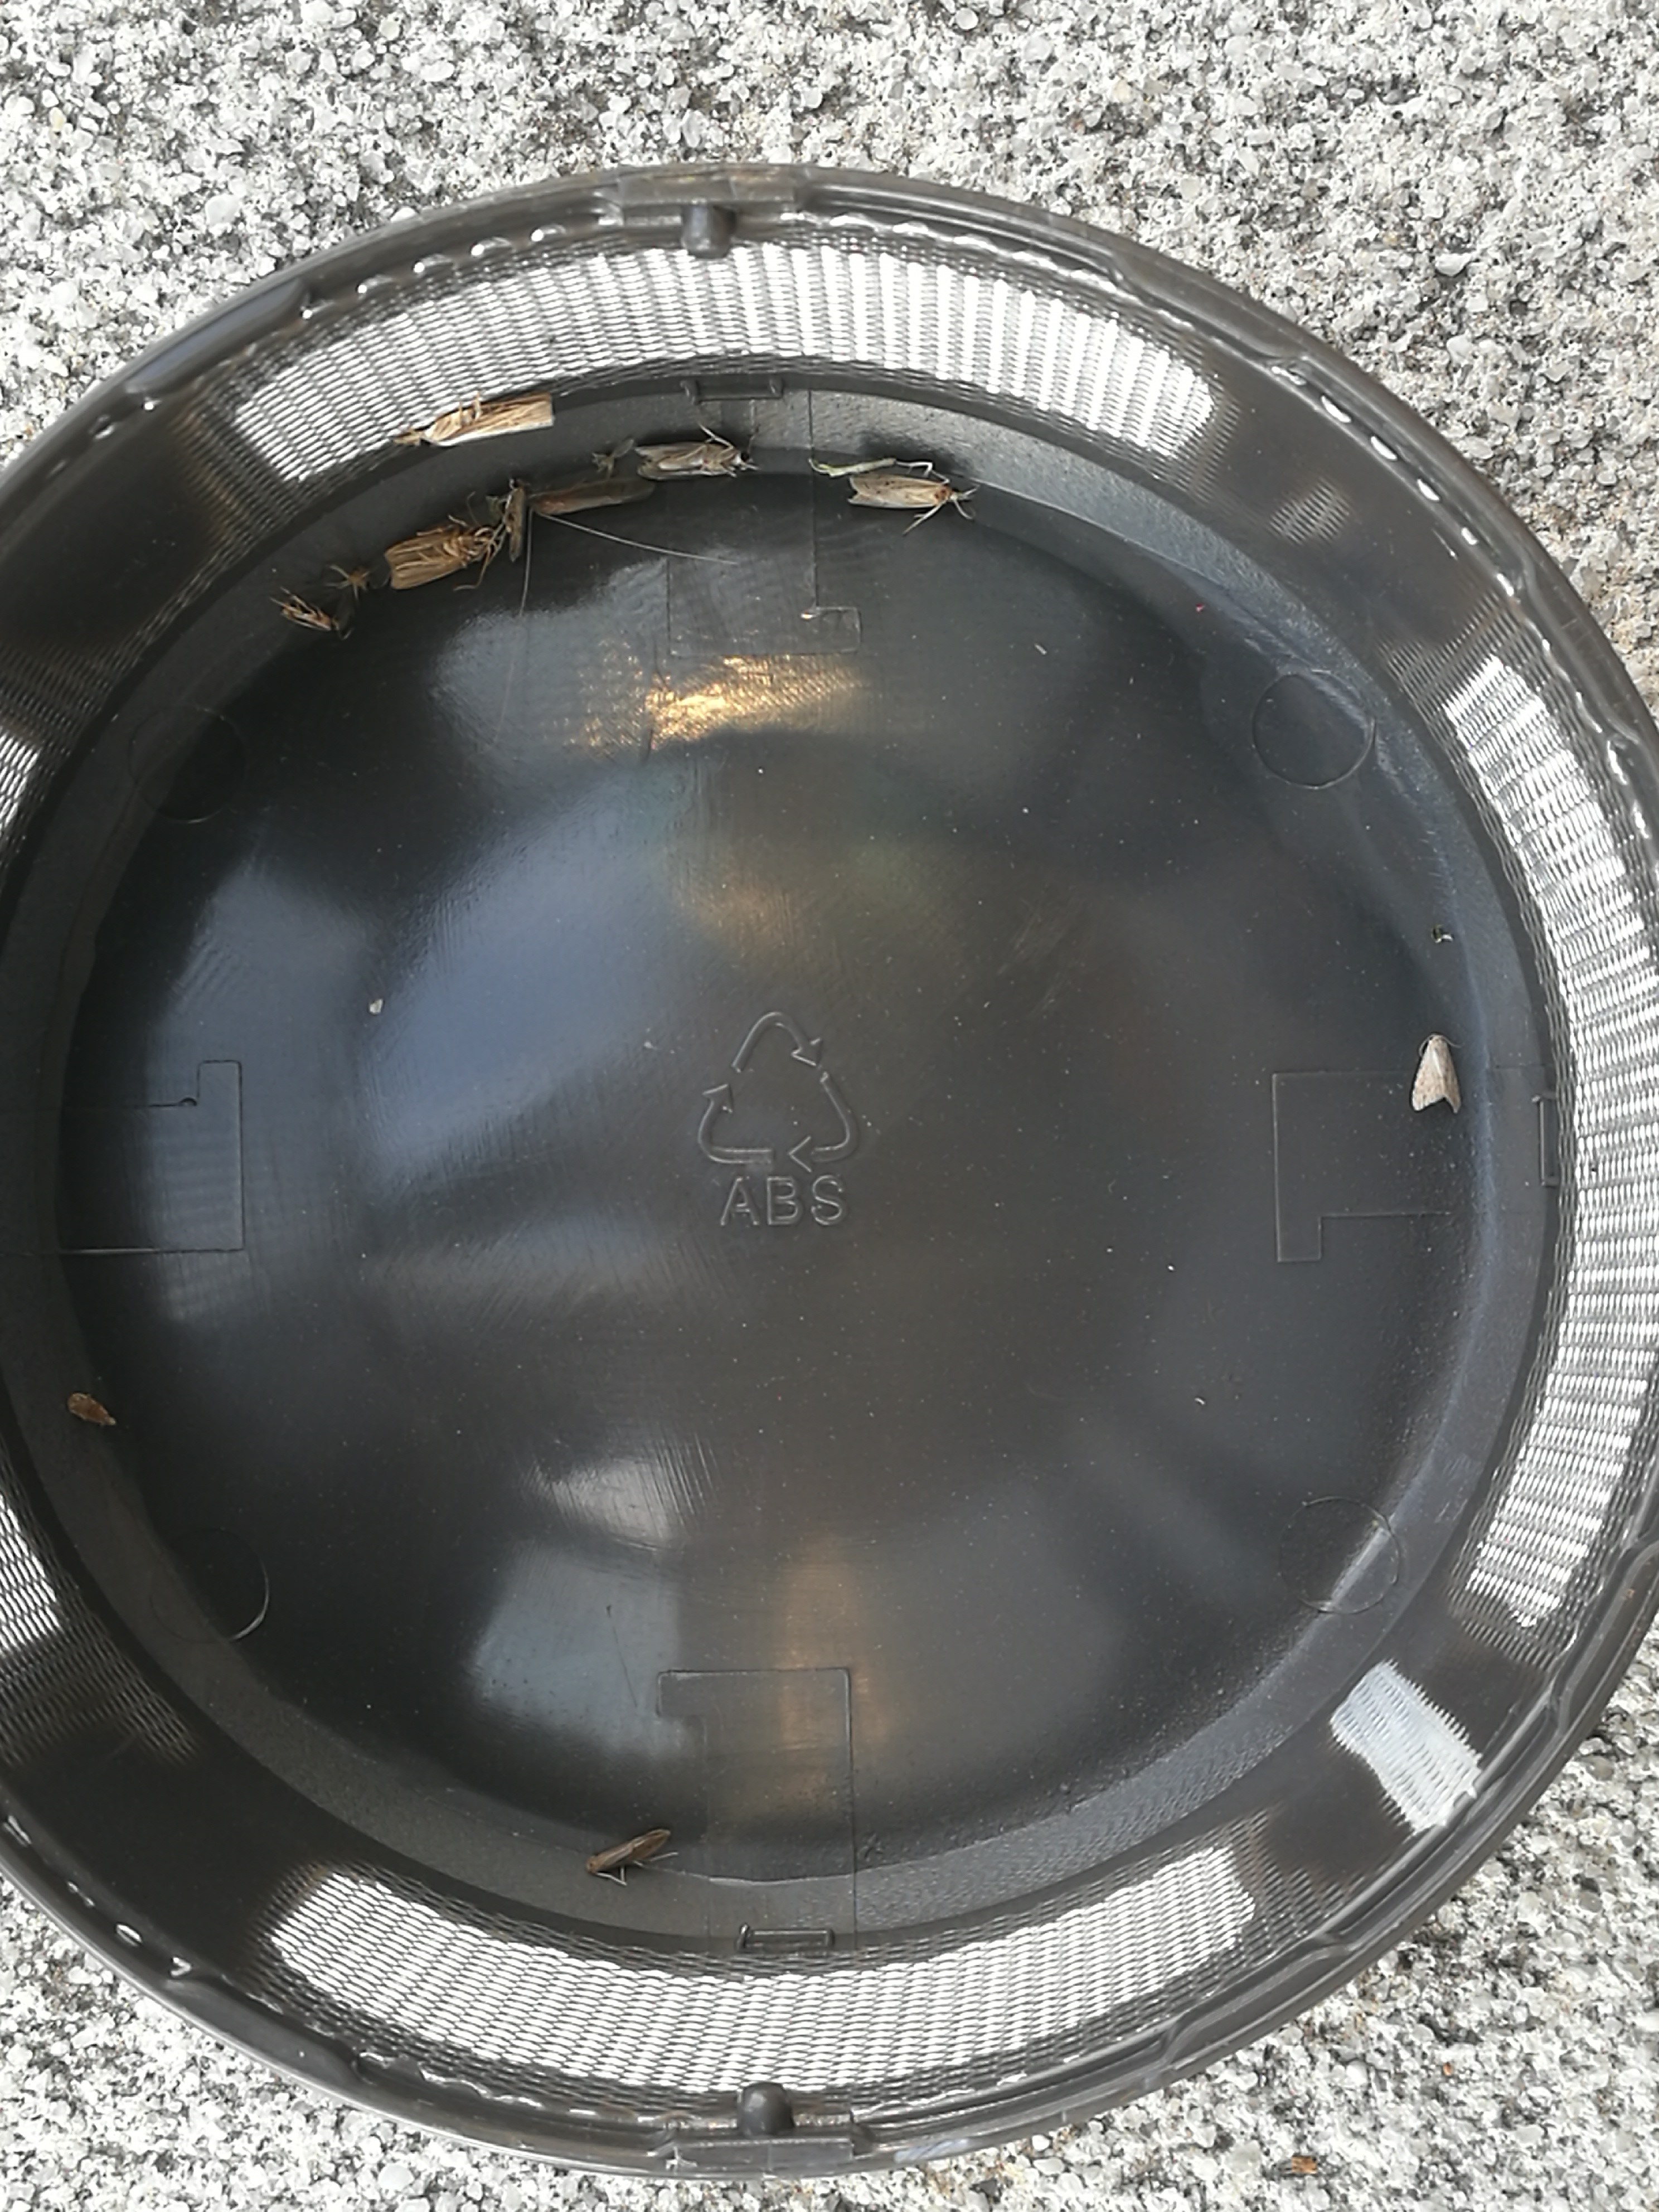mosquito: (420, 395, 552, 449), (528, 477, 653, 517), (636, 444, 753, 479), (584, 1829, 667, 1872), (852, 475, 953, 509), (282, 597, 333, 632), (511, 479, 525, 557)
moth: (387, 523, 493, 590), (1412, 1036, 1462, 1113)
